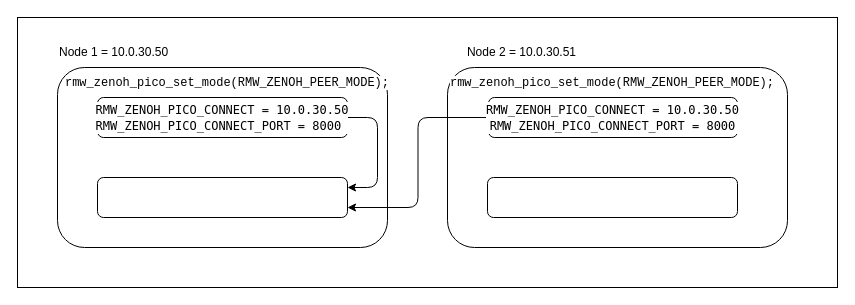
This 855x305 diagram has some shape labels left out. Each missing label, with the centre of its shape:
"RMW_ZENOH_PICO_LISTEN = 10.0.30.50 RMW_ZENOH_PICO_LISTEN_PORT = 8000" belongs at pixel 222 197.
"RMW_ZENOH_PICO_LISTEN = 10.0.30.51 RMW_ZENOH_PICO_LISTEN_PORT = -1" belongs at pixel 612 197.
